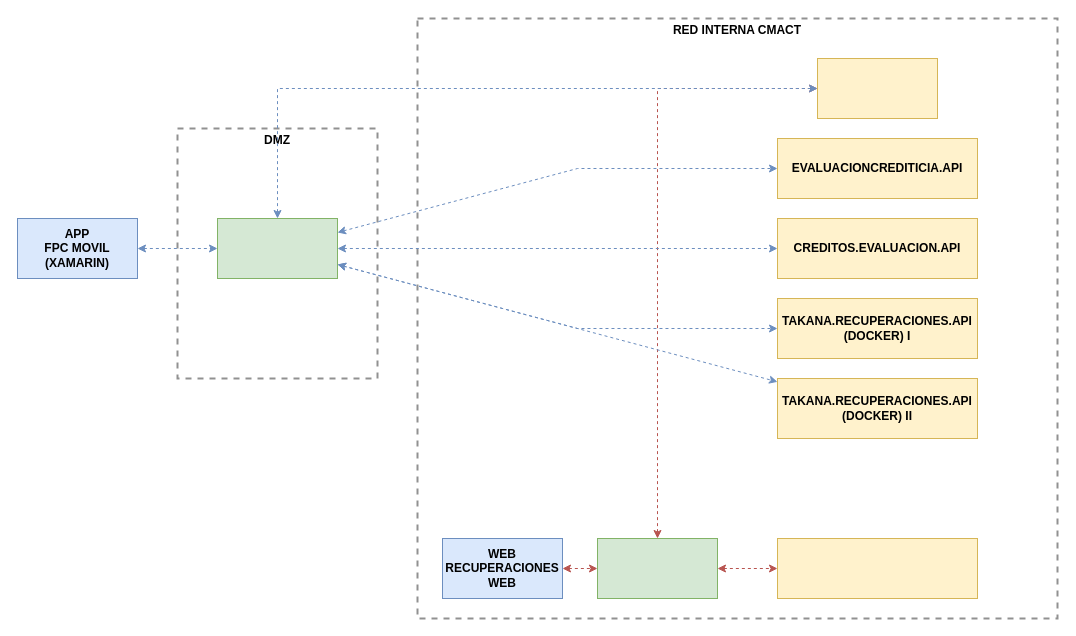
The diagram is 1076 pixels wide and 636 high, and some of its shapes have lost their labels. Each missing label, with the centre of its shape:
API GATEWAY FPC MOVIL (NET CORE): point (277, 248)
API GATEWAY RECUPERACIONES WEB (NET CORE): point (657, 568)
AUTENTICADOR.API: point (877, 88)
TAKANA.RECUPERACIONES.API (IIS): point (877, 568)
